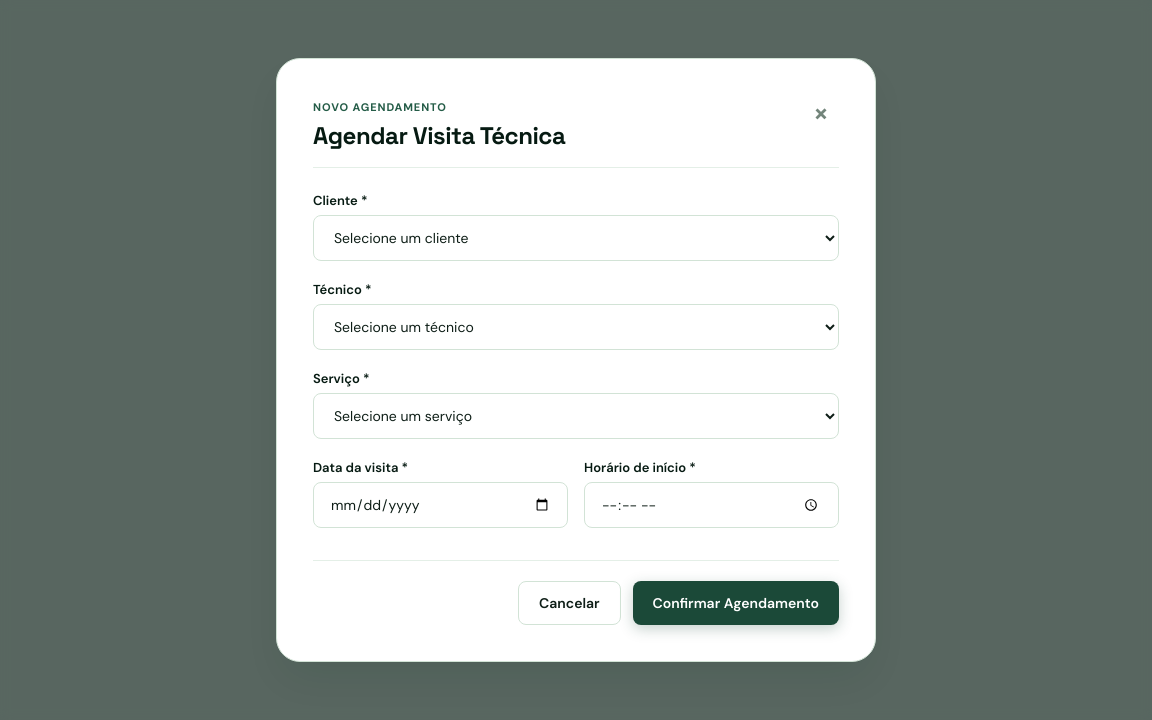
CreateAppointmentModal › queries and displays technician availability when technician and date are chosen
Select "Roberto Santos" in the dropdown labelled "Técnico *" at (576, 327), box [313, 304, 839, 350]
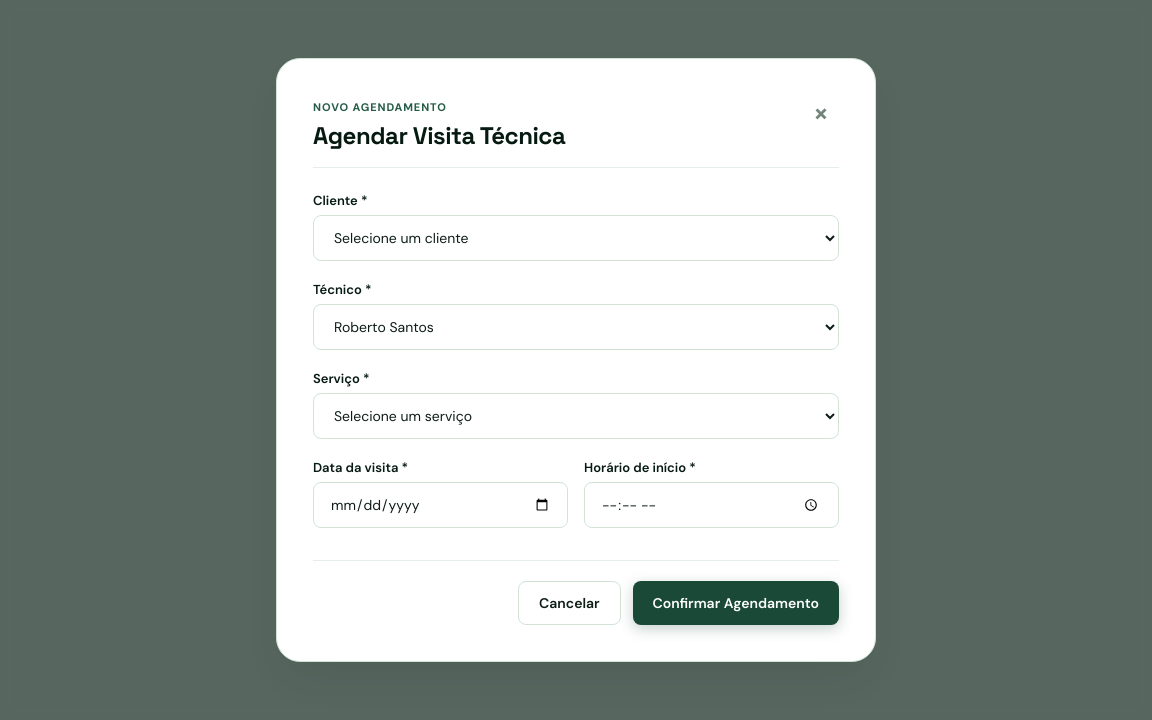
Type "2026-09-10" into the date field labelled "Data da visita *".
click(440, 505); type("2026-09-10")  # box [313, 482, 568, 528]
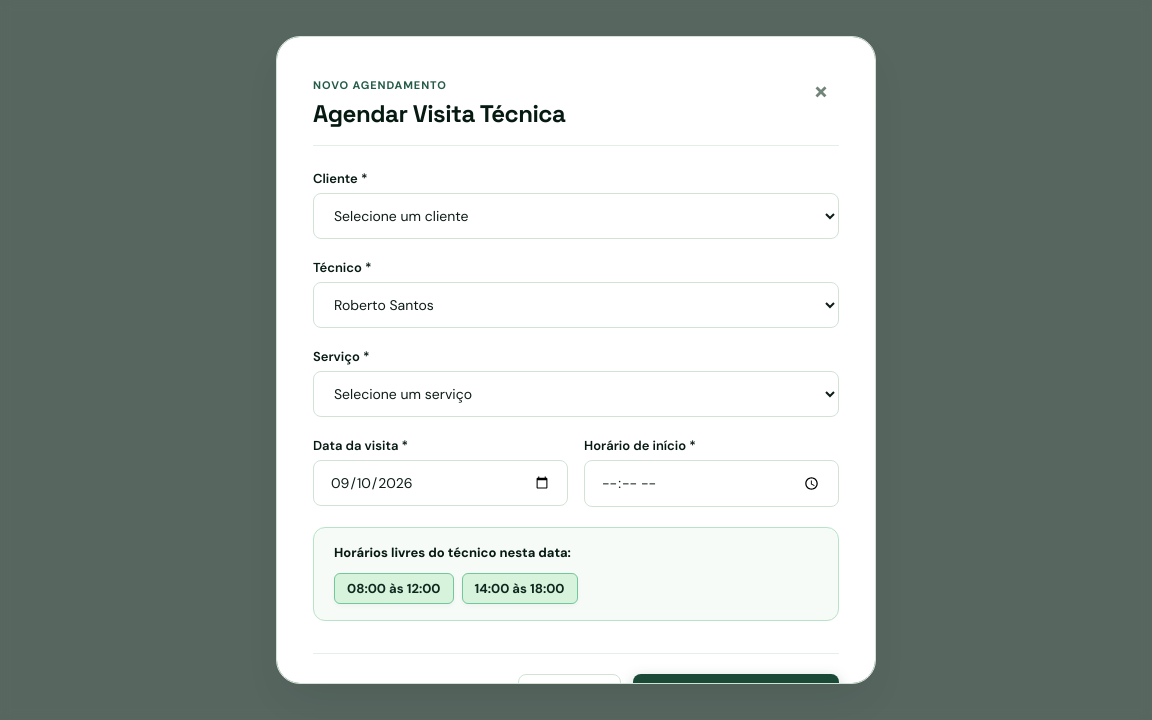
Expected: the text "08:00 às 12:00" is shown, [334, 573, 454, 604]
Expected: the text "14:00 às 18:00" is shown, [462, 573, 578, 604]
